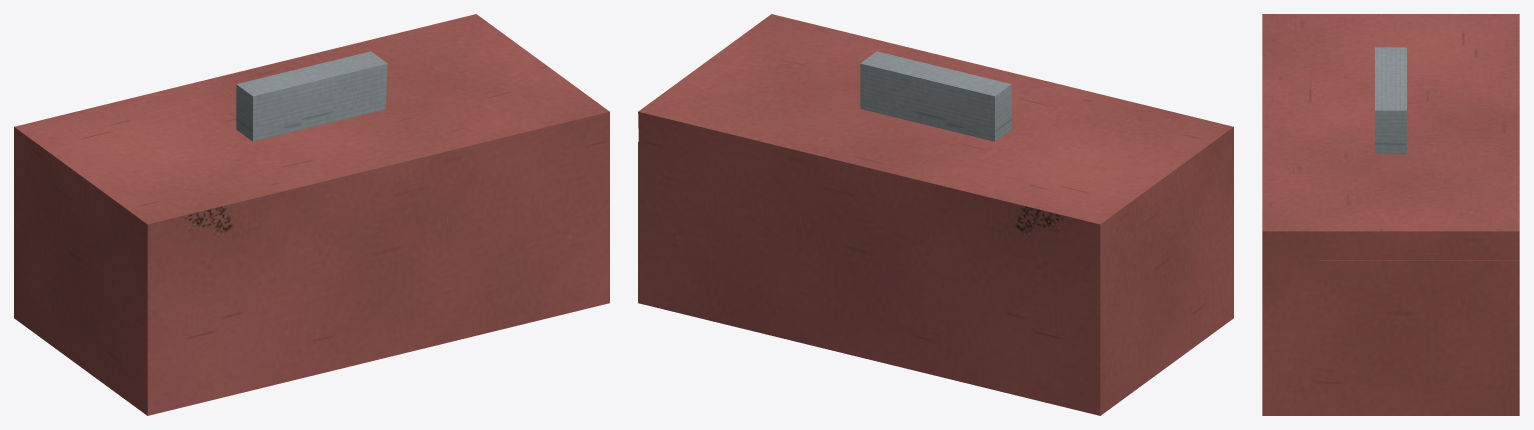
Rendered from toolbox_v4.glb.
The picture shows the model from 3 angles, left to right: view 1: azimuth 30°, elevation 25°; view 2: azimuth 150°, elevation 25°; view 3: azimuth 270°, elevation 25°; orthographic projection. The views are drawn at different scales.
Visible parts, largest first — view 1: Variant_toolbox_4; view 2: Variant_toolbox_4; view 3: Variant_toolbox_4.
Part boxes in pixels (x1,y1,x2,y2): Variant_toolbox_4: (14,14,609,415); Variant_toolbox_4: (638,14,1233,415); Variant_toolbox_4: (1262,14,1519,415).
Size of the model in its own units: 0.48 by 0.235 by 0.24.
Materials: 2 (2 with a texture image).
